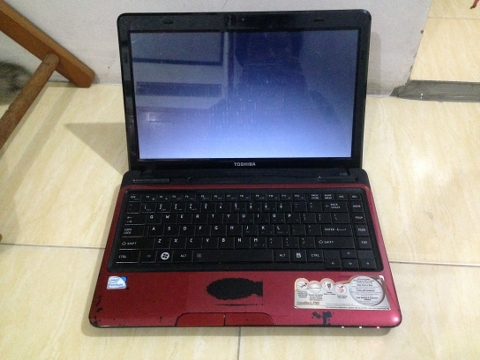pc: (89, 9, 401, 332)
